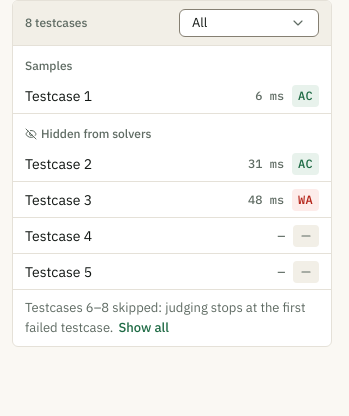
Test case: TestcaseList › folds the long run of skipped testcases into one line and can show them all
Expected: the button "Testcase 8" is not shown
Expected: the text "Testcases 6–8 skipped" is shown, [13, 290, 331, 346]
Click the button "Show all" at (144, 328), box [116, 319, 171, 337]
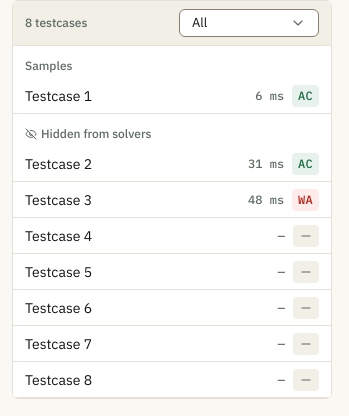
Expected: the button "Testcase 8 —" is shown, [13, 362, 331, 398]
